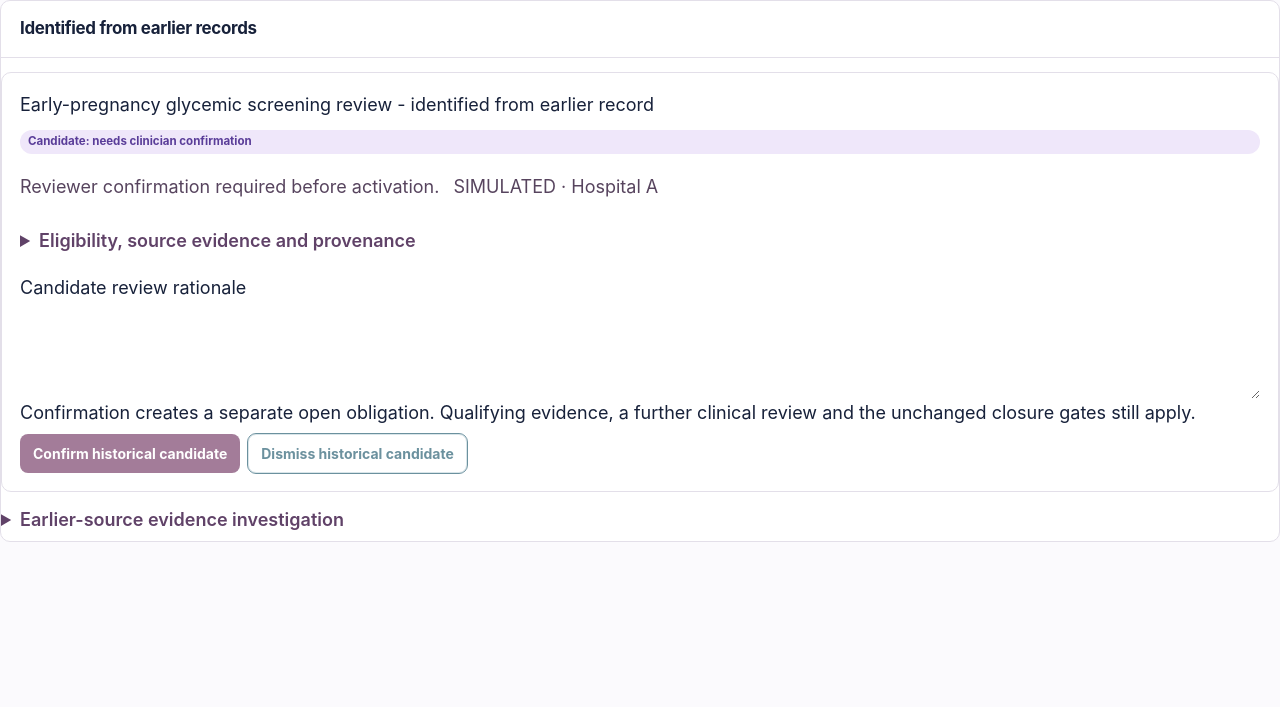
Test: compact Passport candidate keeps reviewer actions visible and details expandable without duplicating workflow
Expected: the text "Candidate: needs clinician confirmation" is shown, x1=20 y1=130 x2=1260 y2=154
Expected: the text "SIMULATED · Hospital A" is shown, x1=453 y1=173 x2=658 y2=200
Type "Unsaved review reason" into the text box labelled "Candidate review rationale" at (640, 354), box x1=20 y1=309 x2=1260 y2=399
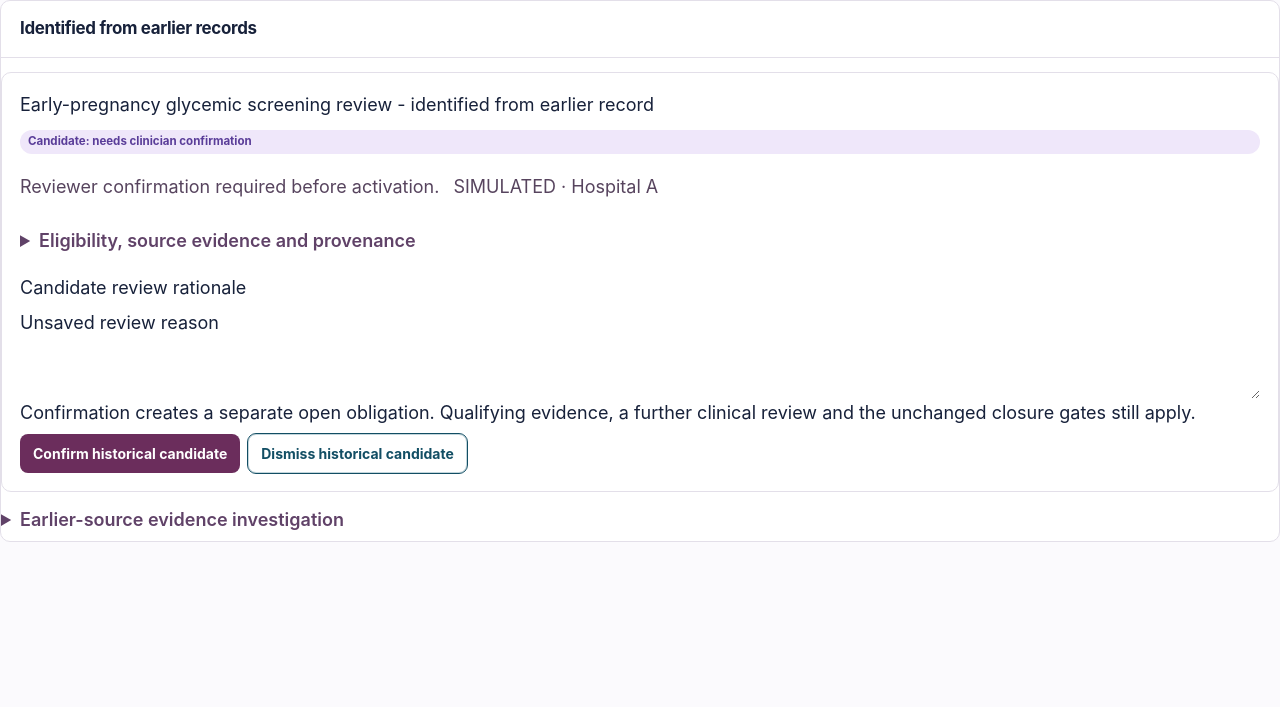
Click the heading "Eligibility, source evidence and provenance" at (227, 240), box x1=39 y1=230 x2=416 y2=251
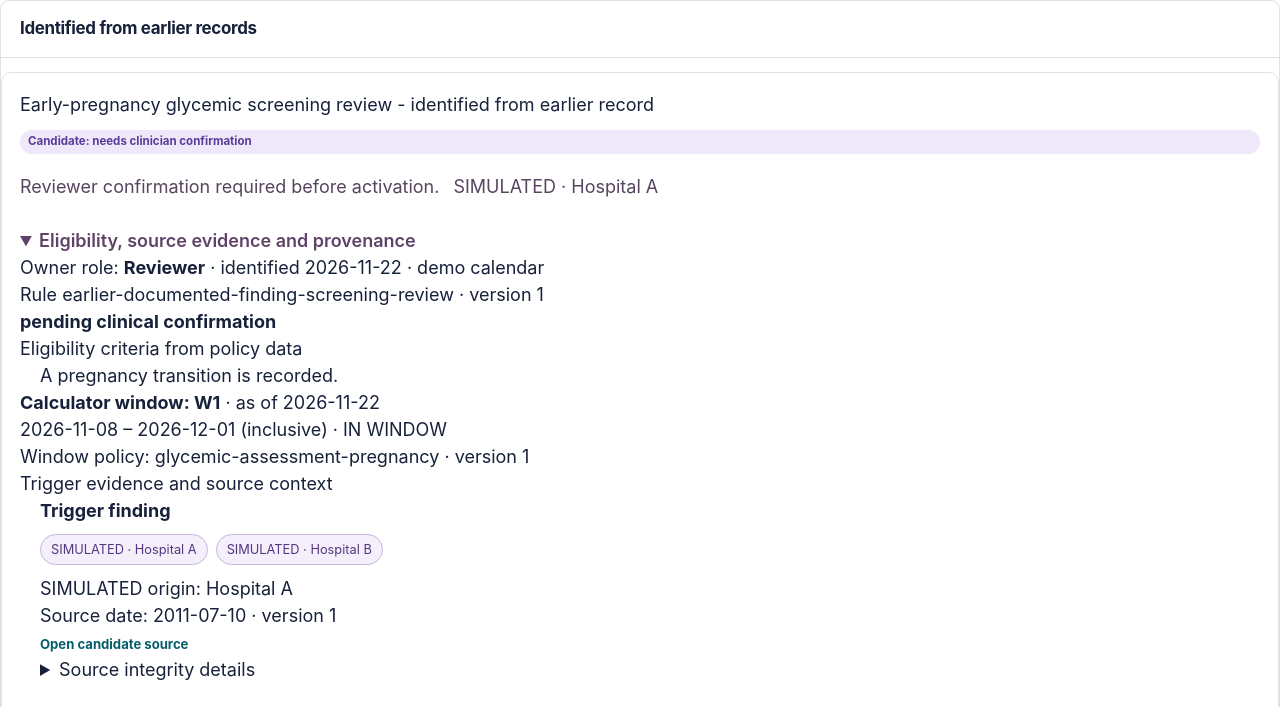
Now the link "Open candidate source" is shown, box x1=40 y1=635 x2=188 y2=655
